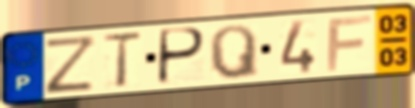4: (278, 18, 319, 76)
F: (325, 13, 375, 73)
P: (155, 26, 208, 87)
Q: (207, 23, 262, 81)
T: (100, 29, 145, 90)
Z: (43, 33, 99, 96)
